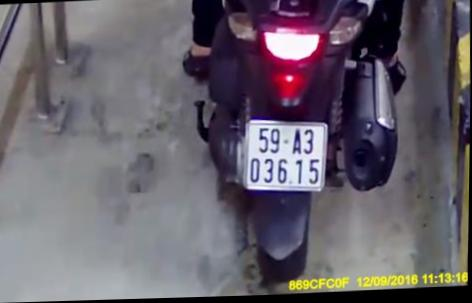LP: (239, 116, 331, 200)
